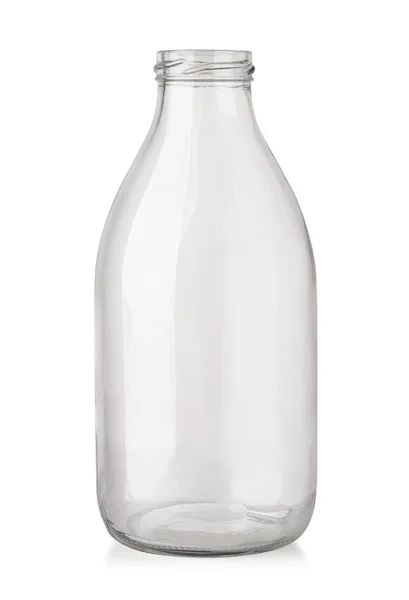glass_bottle: (77, 39, 348, 568)
